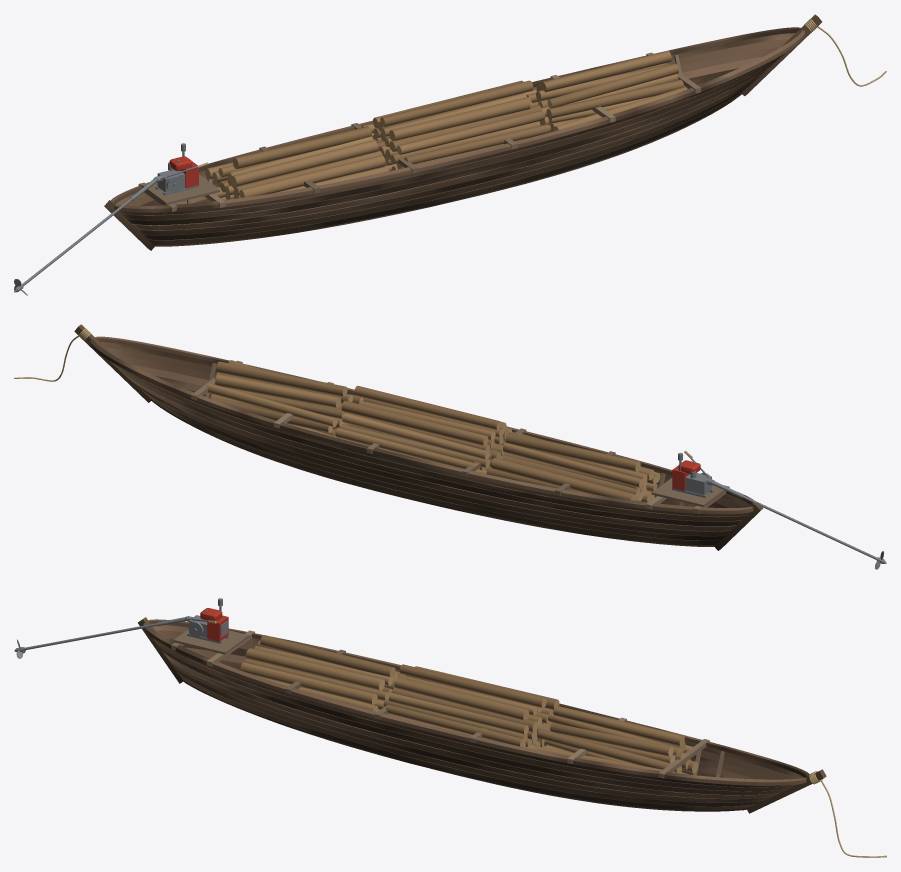
File: baleiniere-bois.glb
The picture shows the model from 3 angles, top to bottom: view 1: azimuth 30°, elevation 25°; view 2: azimuth 150°, elevation 25°; view 3: azimuth 330°, elevation 25°; orthographic projection. The views are drawn at different scales.
Visible parts, largest first — view 1: grumes, plat_bord, bordage_tribord_6, bordage_tribord_5, bordage_tribord_4, bordage_tribord_3, bordage_tribord_2, bordage_tribord_1, bordage_tribord_7, traverses, fond, bordage_babord_6 (+6 smaller); view 2: grumes, plat_bord, bordage_babord_6, bordage_babord_5, bordage_babord_4, bordage_babord_3, bordage_babord_2, bordage_babord_1, bordage_babord_7, traverses, fond, bordage_tribord_6 (+7 smaller); view 3: grumes, plat_bord, bordage_tribord_6, bordage_tribord_5, bordage_tribord_4, bordage_tribord_3, bordage_tribord_2, bordage_tribord_1, traverses, bordage_tribord_7, fond, etrave_etambot (+7 smaller).
Part boxes in pixels (<box>): grumes: <box>205,50,687,199</box>; plat_bord: <box>111,27,805,212</box>; bordage_tribord_6: <box>121,53,784,220</box>; bordage_tribord_5: <box>126,57,780,225</box>; bordage_tribord_4: <box>132,65,771,230</box>; bordage_tribord_3: <box>137,73,763,234</box>; bordage_tribord_2: <box>143,80,755,239</box>; bordage_tribord_1: <box>149,88,746,244</box>; bordage_tribord_7: <box>119,60,772,214</box>; traverses: <box>138,52,700,211</box>; fond: <box>155,92,742,246</box>; bordage_babord_6: <box>126,39,788,205</box>; grumes: <box>206,360,660,502</box>; plat_bord: <box>90,336,756,514</box>; bordage_babord_6: <box>110,361,747,521</box>; bordage_babord_5: <box>114,365,741,526</box>; bordage_babord_4: <box>120,371,736,531</box>; bordage_babord_3: <box>131,381,730,535</box>; bordage_babord_2: <box>139,388,725,540</box>; bordage_babord_1: <box>146,394,720,545</box>; bordage_babord_7: <box>120,367,749,516</box>; traverses: <box>191,360,729,513</box>; fond: <box>150,399,714,546</box>; bordage_tribord_6: <box>106,348,744,507</box>; grumes: <box>240,635,698,774</box>; plat_bord: <box>143,619,809,785</box>; bordage_tribord_6: <box>153,638,796,791</box>; bordage_tribord_5: <box>157,644,787,795</box>; bordage_tribord_4: <box>162,651,779,798</box>; bordage_tribord_3: <box>167,658,771,802</box>; bordage_tribord_2: <box>173,666,763,806</box>; bordage_tribord_1: <box>178,673,754,810</box>; traverses: <box>171,629,709,778</box>; bordage_tribord_7: <box>155,640,796,787</box>; fond: <box>183,680,747,811</box>; etrave_etambot: <box>138,617,826,813</box>.
Size of the model in its own units: 20.66 by 2.16 by 2.48.
